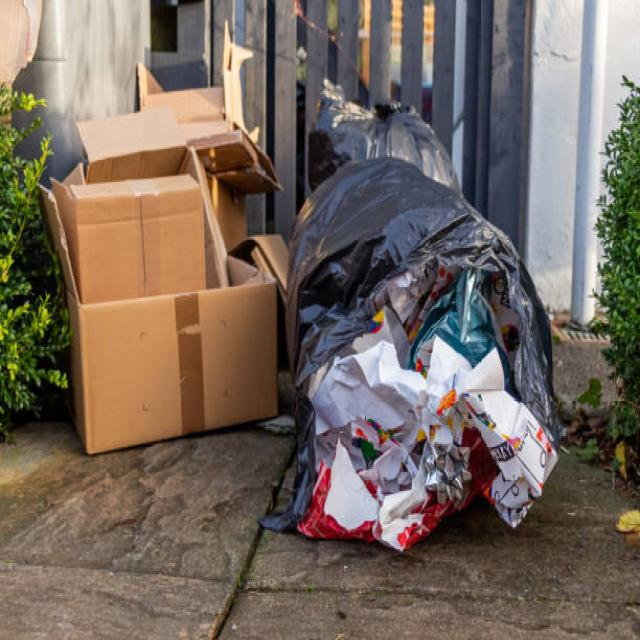garbage: (53, 53, 573, 576)
